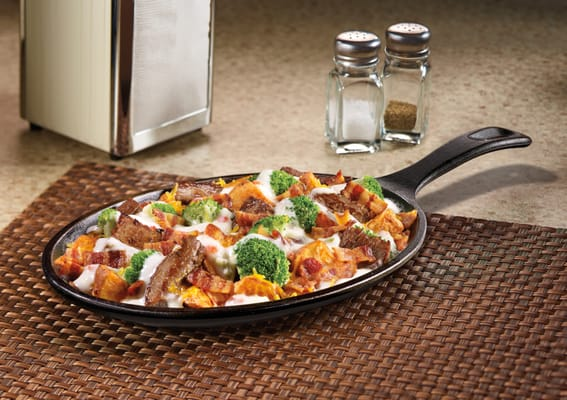curry: (233, 234, 291, 286), (182, 196, 225, 225), (122, 249, 156, 284), (289, 194, 319, 231), (269, 168, 299, 196)
sushi: (24, 166, 428, 325)
